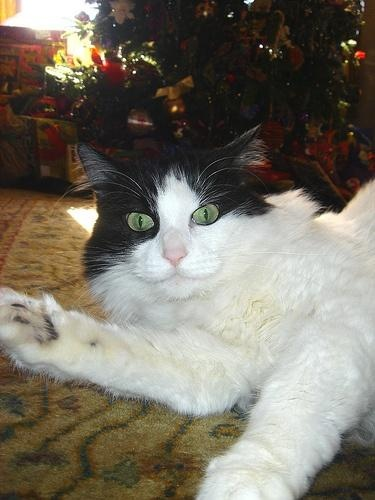cat: (5, 145, 375, 500)
